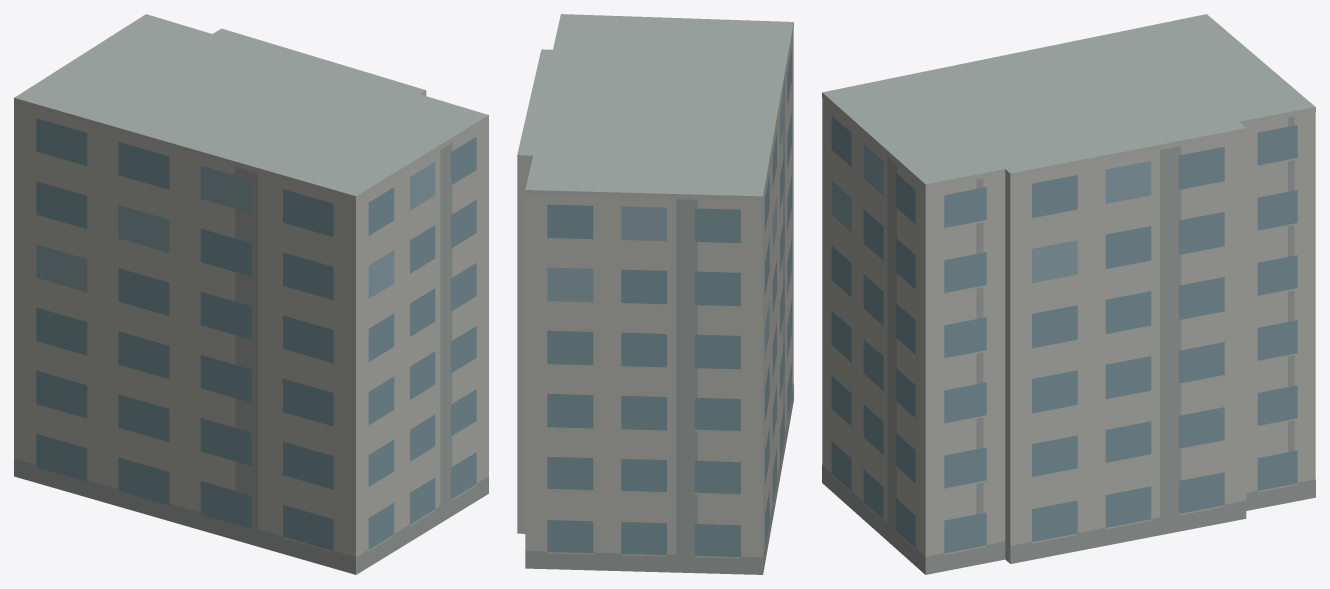
Rendered from survey-upis-32709136.glb.
The picture shows the model from 3 angles, left to right: view 1: azimuth 30°, elevation 25°; view 2: azimuth 150°, elevation 25°; view 3: azimuth 270°, elevation 25°; orthographic projection. The views are drawn at different scales.
Visible parts, largest first — view 1: survey-upis-32709136.tmp; view 2: survey-upis-32709136.tmp; view 3: survey-upis-32709136.tmp.
Boxes of the visible parts, box(x1,y1,x2,y2) form: survey-upis-32709136.tmp: box(14, 14, 488, 574); survey-upis-32709136.tmp: box(517, 14, 793, 574); survey-upis-32709136.tmp: box(822, 14, 1315, 574).
Size of the model in its own units: 17.08 by 18.25 by 20.91.
